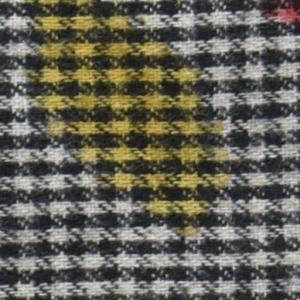Stain: (24, 1, 236, 242), (257, 1, 300, 29)
